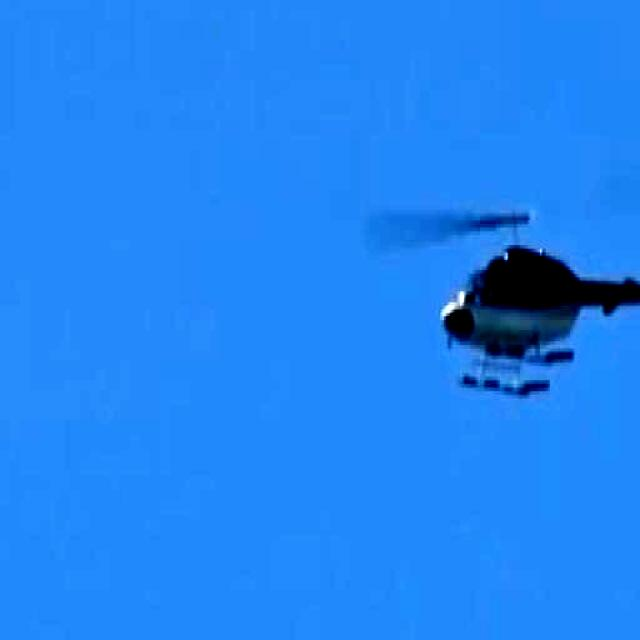drone: (424, 211, 640, 392)
